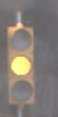Yellow: (6, 19, 36, 116)
